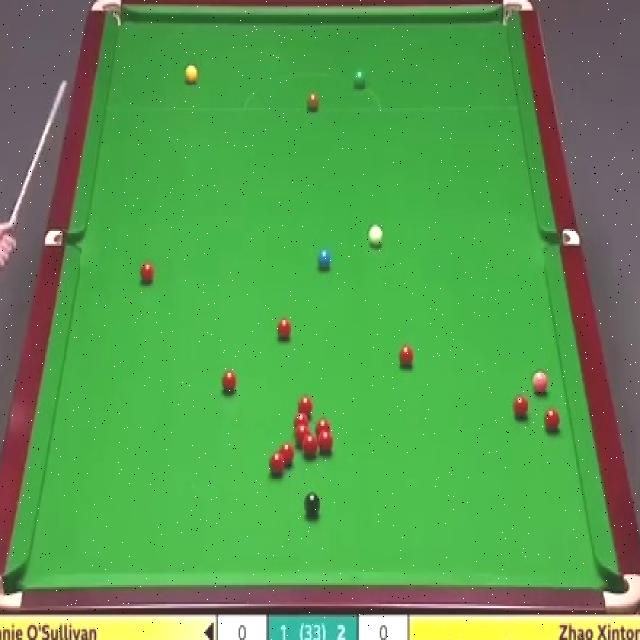black-ball: (304, 490, 320, 521)
blue-ball: (316, 247, 332, 269)
brown-ball: (306, 91, 320, 112)
green-ball: (352, 69, 367, 90)
pink-ball: (532, 369, 549, 396)
red-ball: (220, 368, 238, 398), (279, 444, 297, 470), (268, 452, 285, 478), (514, 394, 531, 420), (317, 431, 334, 456), (399, 343, 415, 369), (544, 409, 562, 432), (276, 318, 293, 341), (140, 261, 154, 286), (303, 433, 317, 457), (296, 396, 314, 413), (295, 426, 309, 445), (294, 412, 308, 428), (316, 420, 330, 434)
white-ball: (368, 223, 383, 249)
yellow-ball: (185, 65, 199, 87)
